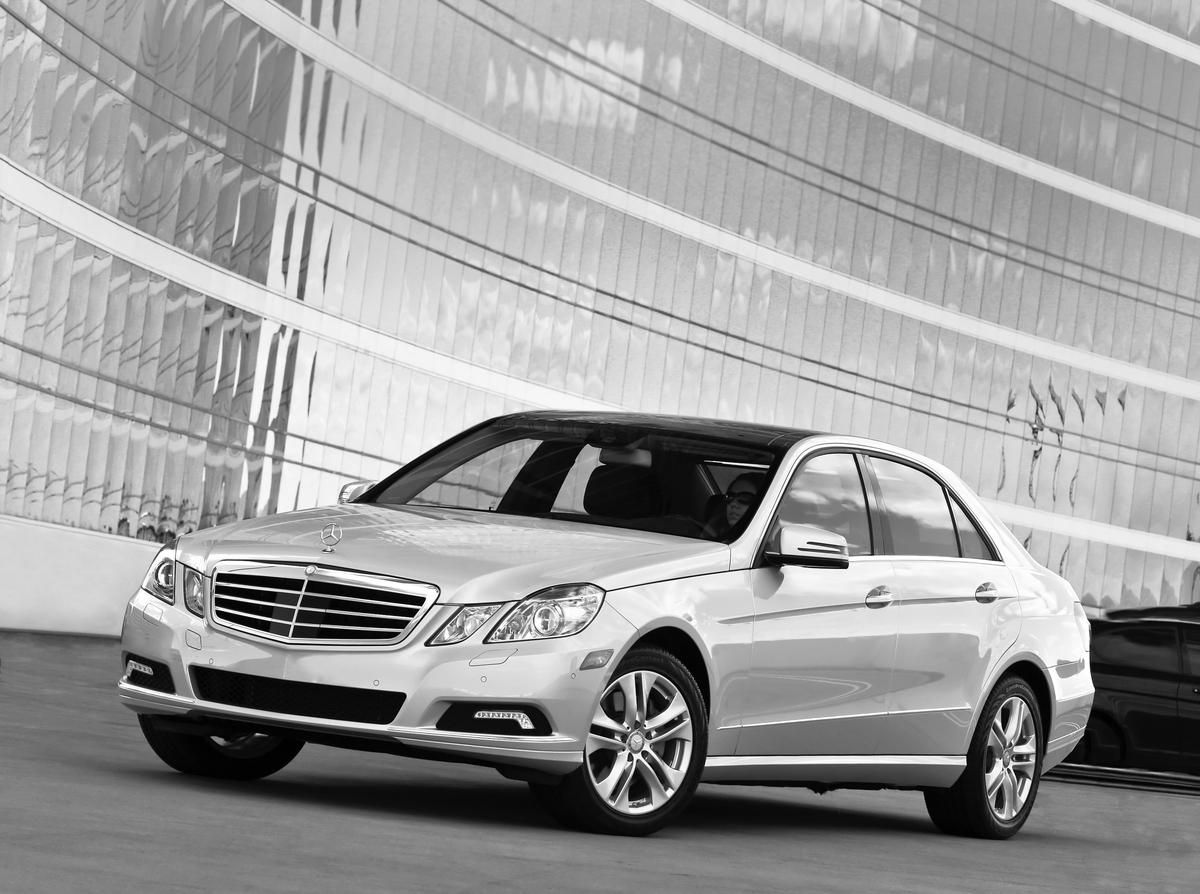car: (122, 406, 1103, 832)
